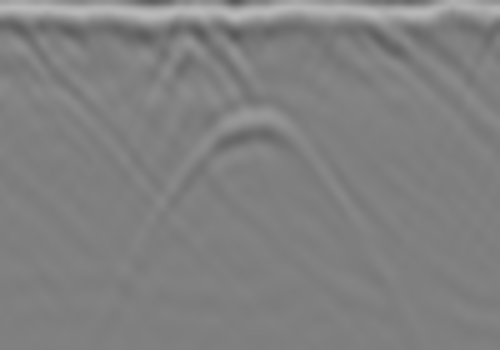hyperbola: (127, 96, 393, 303)
